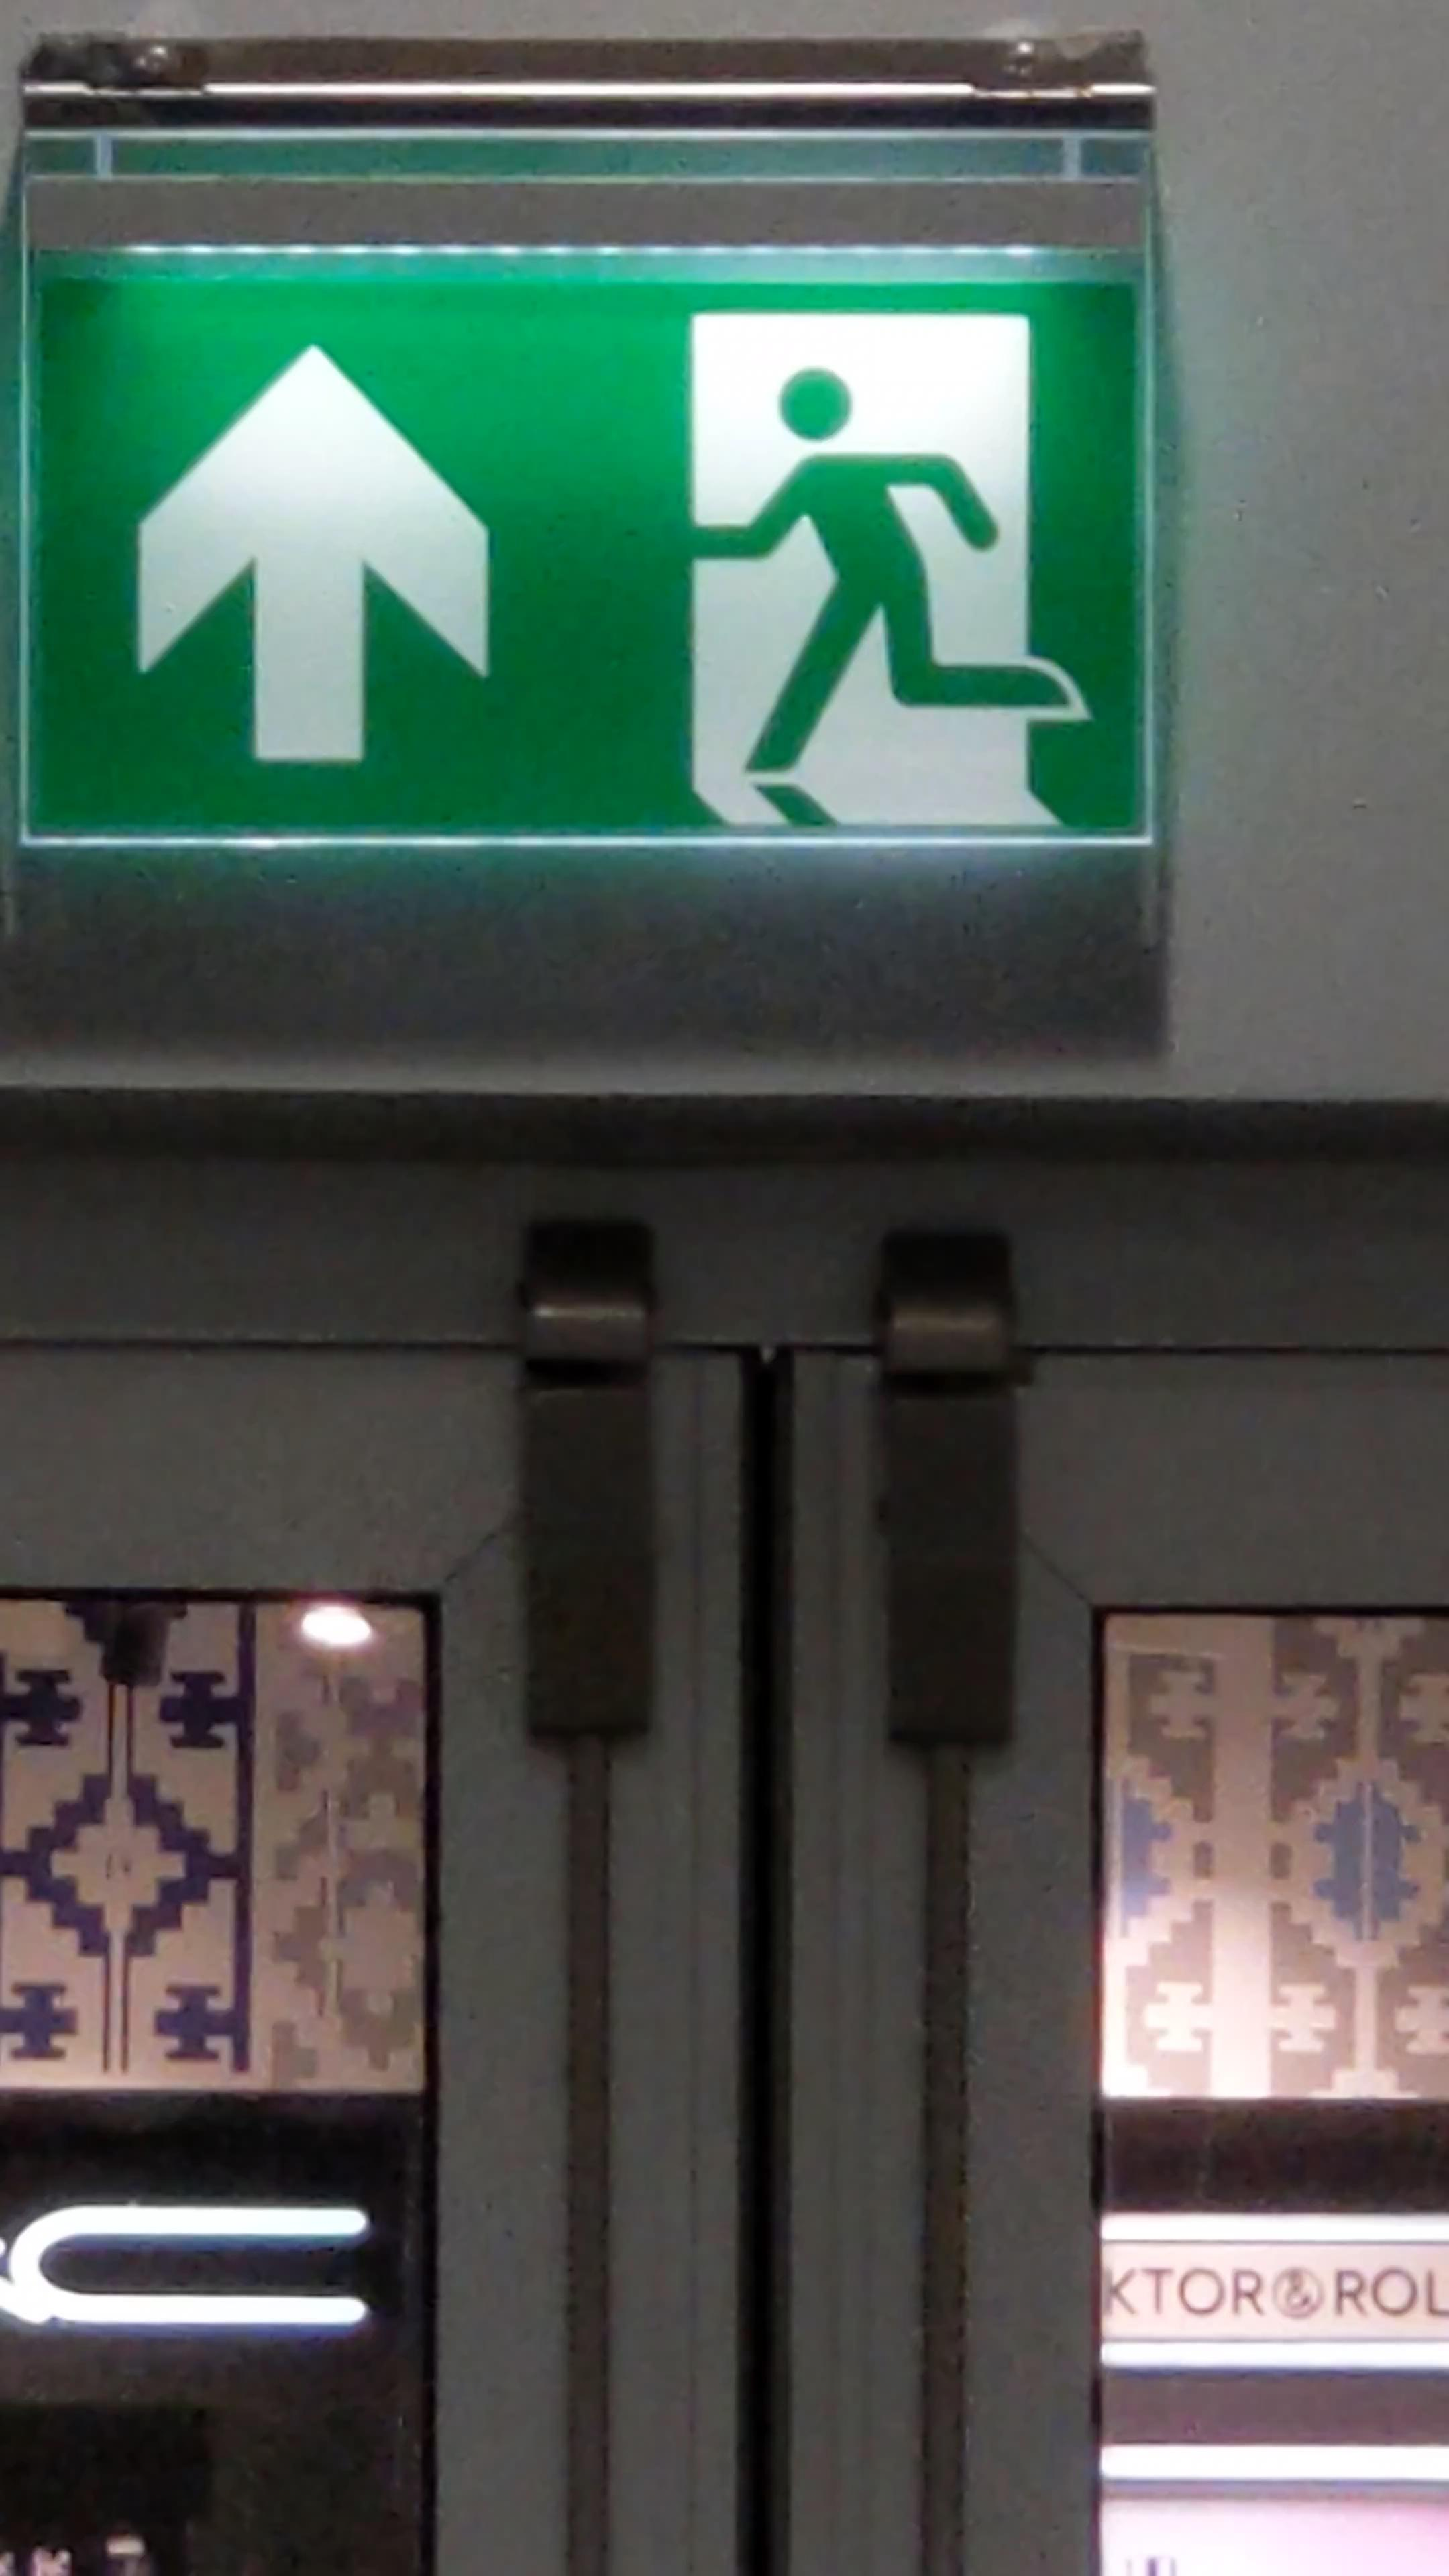emergency exit: (665, 304, 1104, 844)
up arrow: (110, 336, 513, 786)
